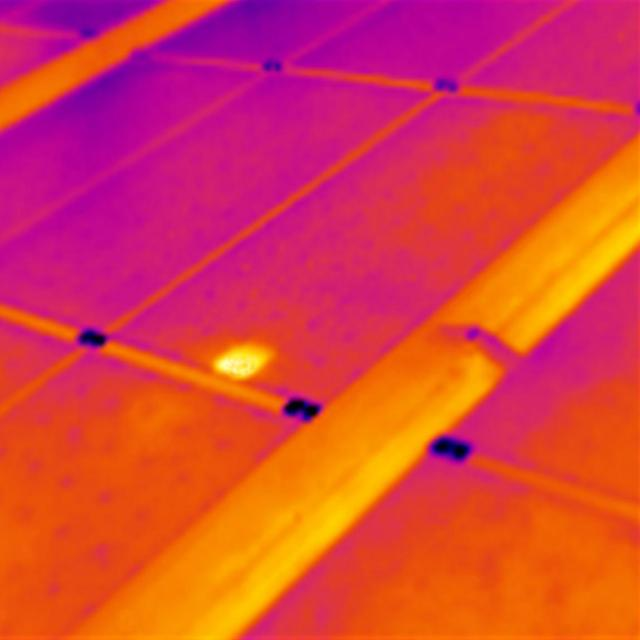hotspot group: (201, 327, 283, 385)
panel with hotspots: (96, 89, 640, 424)
